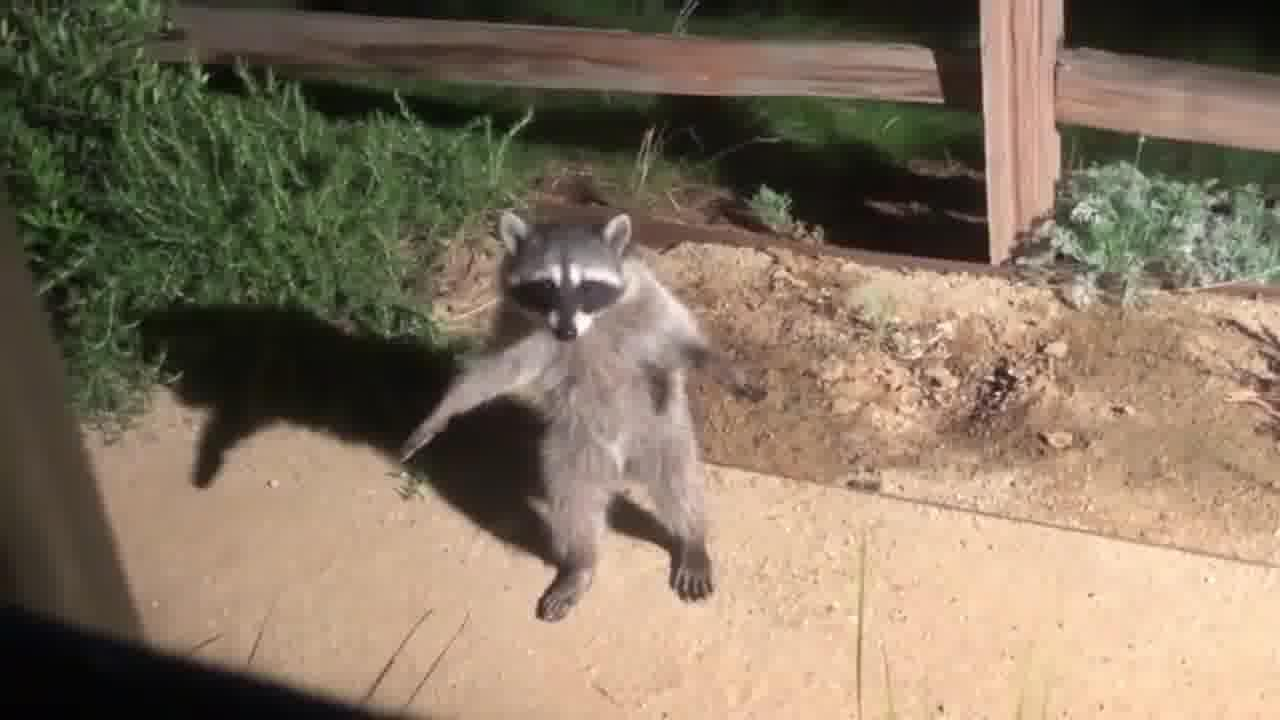raccoon: (405, 207, 741, 621)
